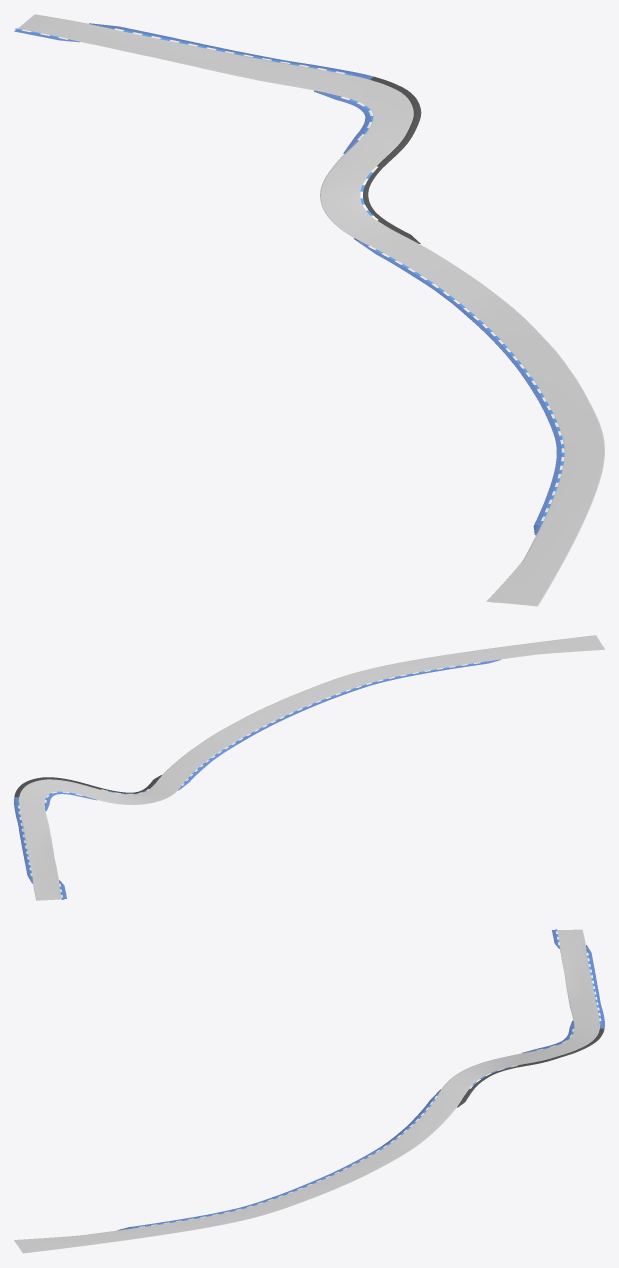
The model's file is track_road_sector7.dae.
3 views of the same model, one above another, from view 1: azimuth 30°, elevation 25°; view 2: azimuth 150°, elevation 25°; view 3: azimuth 330°, elevation 25° (orthographic). The views are drawn at different scales.
Visible parts, largest first — view 1: road_track_sector7_a6000; view 2: road_track_sector7_a6000; view 3: road_track_sector7_a6000.
Part boxes in pixels (x1,y1,x2,y2): road_track_sector7_a6000: (14,14,604,606); road_track_sector7_a6000: (14,635,604,900); road_track_sector7_a6000: (14,929,604,1253).
Bounding box in the file's own units: 131 × 376 × 15.49.
